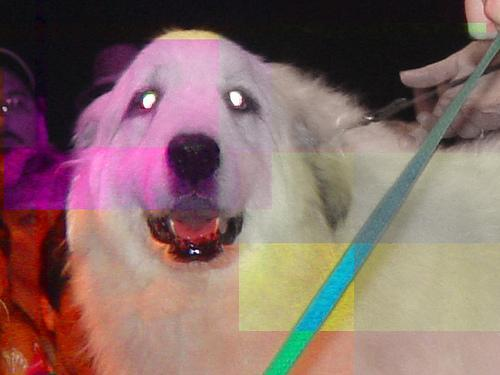Great_Pyrenees: (53, 23, 499, 374)
